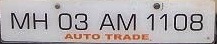character: (116, 12, 137, 32), (10, 11, 29, 30), (31, 11, 48, 30), (98, 12, 115, 31), (57, 12, 72, 31), (173, 13, 188, 31), (73, 12, 87, 31), (189, 13, 203, 31), (146, 12, 155, 31), (159, 12, 168, 31)
